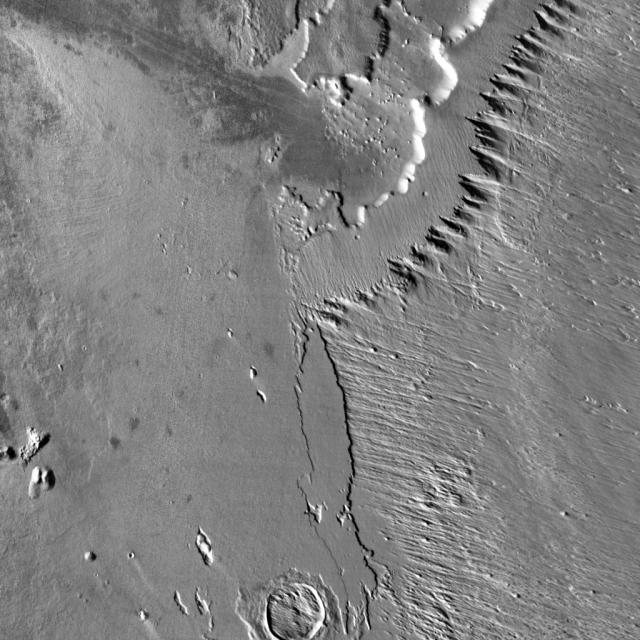crater: (274, 587, 332, 640)
